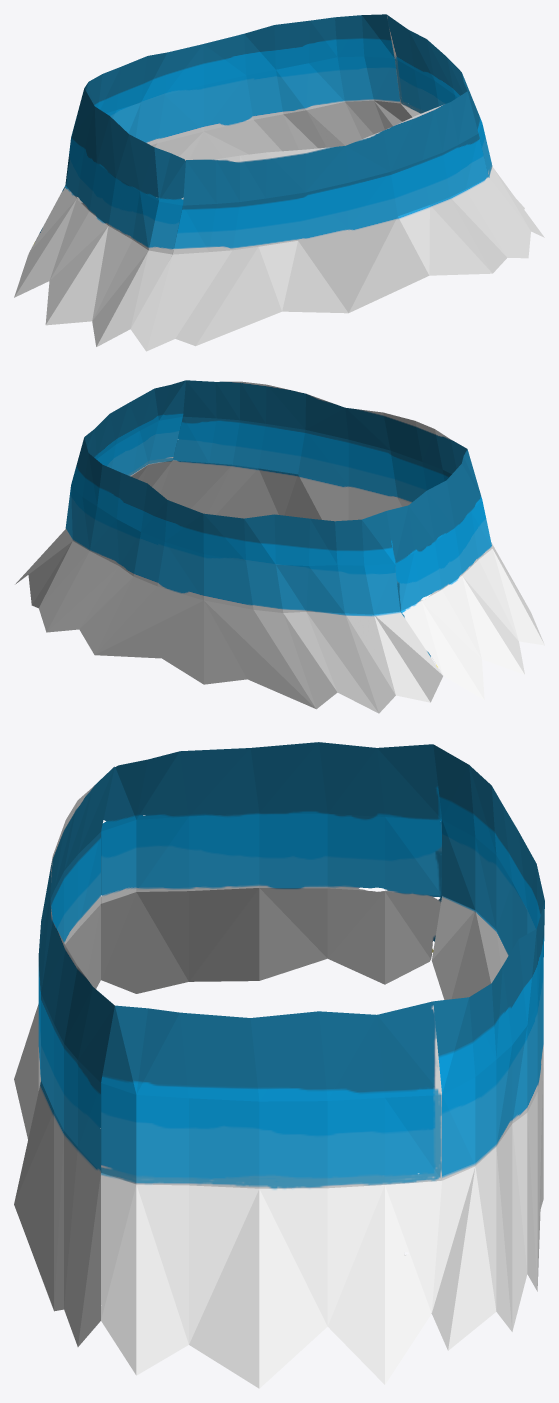
The model's file is lowerClothing.obj.
The picture shows the model from 3 angles, top to bottom: view 1: azimuth 30°, elevation 25°; view 2: azimuth 150°, elevation 25°; view 3: azimuth 270°, elevation 25°; orthographic projection. The views are drawn at different scales.
Visible parts, largest first — view 1: 下着; view 2: 下着; view 3: 下着.
Part boxes in pixels (x1,y1,x2,y2): 下着: (14,14,544,351); 下着: (15,380,544,713); 下着: (14,742,544,1388).
Size of the model in its own units: 0.4735 by 0.177 by 0.2605.
1 material, 1 textured.
